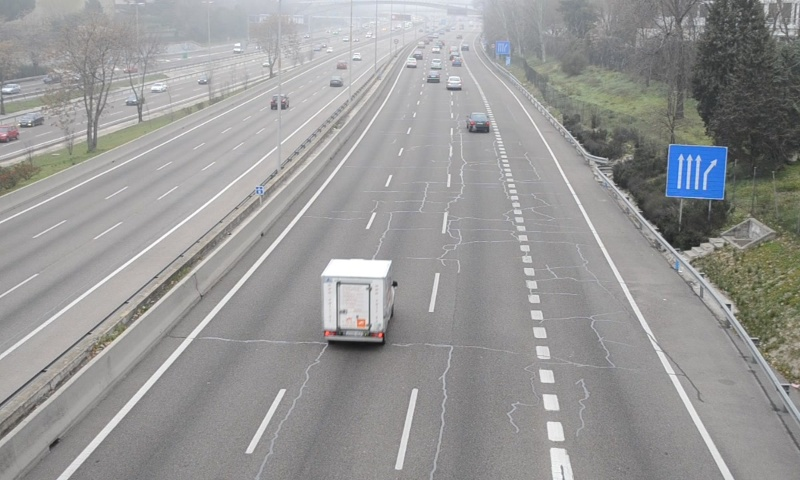car: (467, 110, 491, 132)
small-truck: (321, 259, 396, 343)
